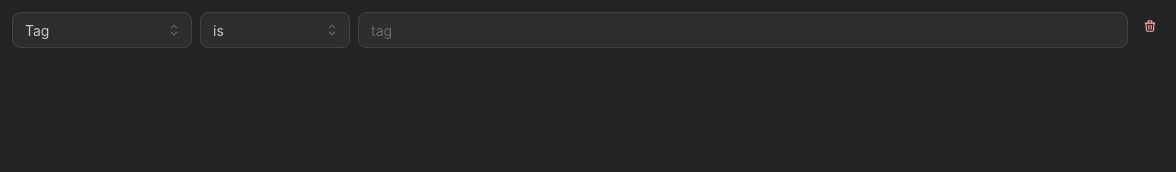
Test: LeafEditor tag and genre suggestions › offers the library's existing tags
Click the field with placeholder "tag" at (743, 30), box [358,12,1128,48]
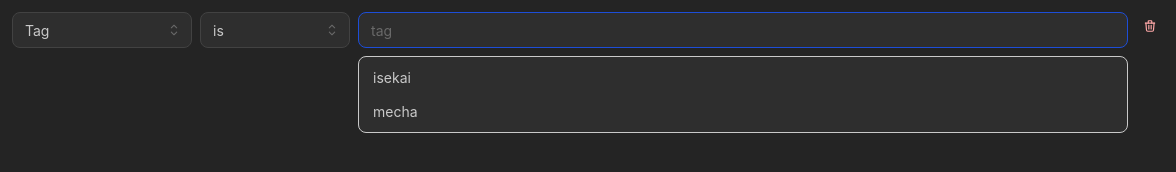
Expected: the text "isekai" is shown, [373,67,411,89]
Expected: the text "mecha" is shown, [373,101,418,122]
